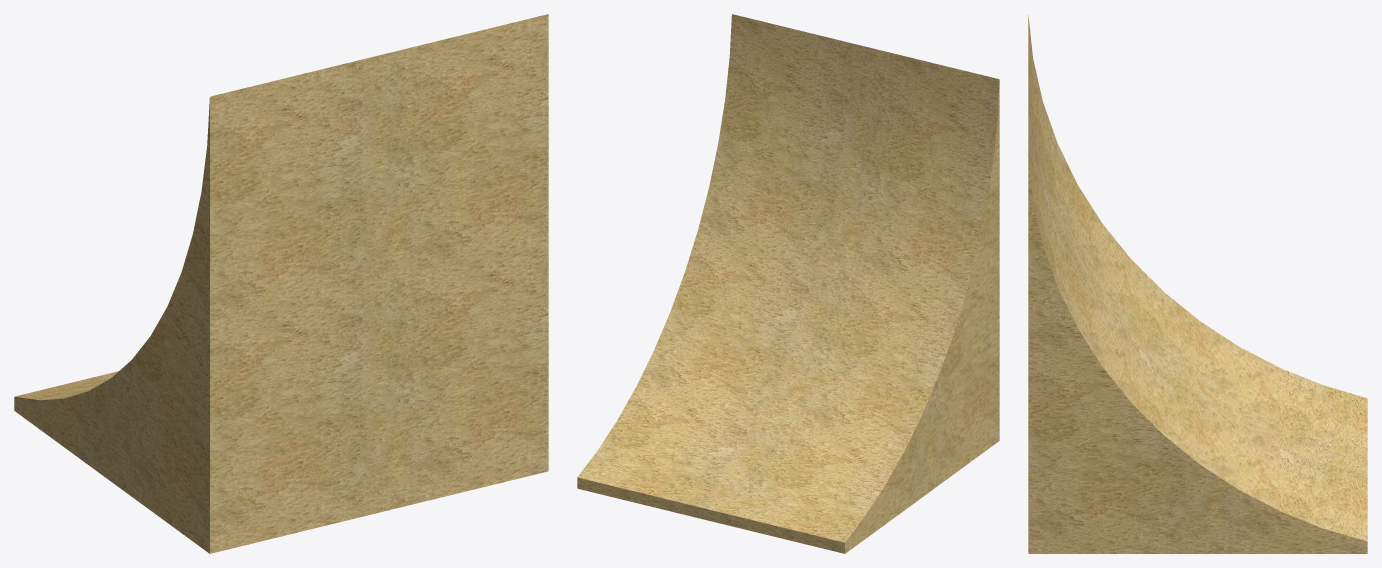
File: left1.fbx
3 renders of one model, left to right at view 1: azimuth 30°, elevation 25°; view 2: azimuth 150°, elevation 25°; view 3: azimuth 270°, elevation 25°, orthographic. The views are drawn at different scales.
Parts seen in each view (by area): view 1: Model; view 2: Model; view 3: Model.
Boxes of the visible parts, x1,y1,x2,y2 form: Model: [14, 14, 548, 553]; Model: [577, 14, 999, 553]; Model: [1028, 15, 1367, 553].
Size of the model in its own units: 1000 by 1290 by 1000.
